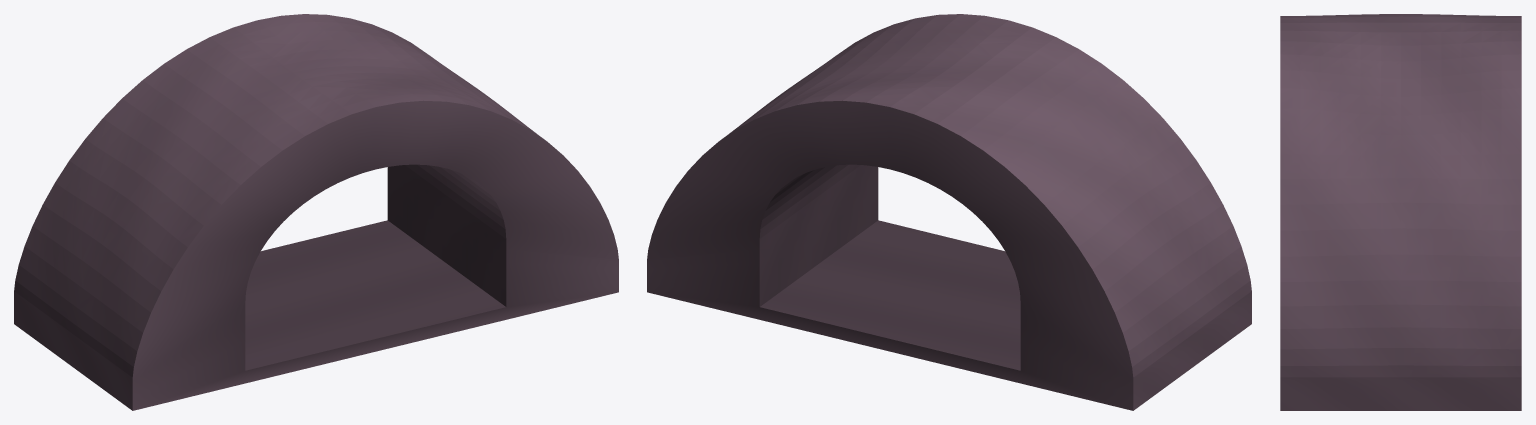
The model's file is straight_12m_terrain.glb.
3 views of the same model, side by side, from view 1: azimuth 30°, elevation 25°; view 2: azimuth 150°, elevation 25°; view 3: azimuth 270°, elevation 25° (orthographic).
Visible parts, largest first — view 1: TerrainRoof.004; view 2: TerrainRoof.004; view 3: TerrainRoof.004.
Part boxes in pixels (bbox=[...]): TerrainRoof.004: bbox=[14, 14, 618, 410]; TerrainRoof.004: bbox=[647, 14, 1251, 410]; TerrainRoof.004: bbox=[1280, 14, 1521, 410].
Size of the model in its own units: 28.4 by 13.65 by 12.
